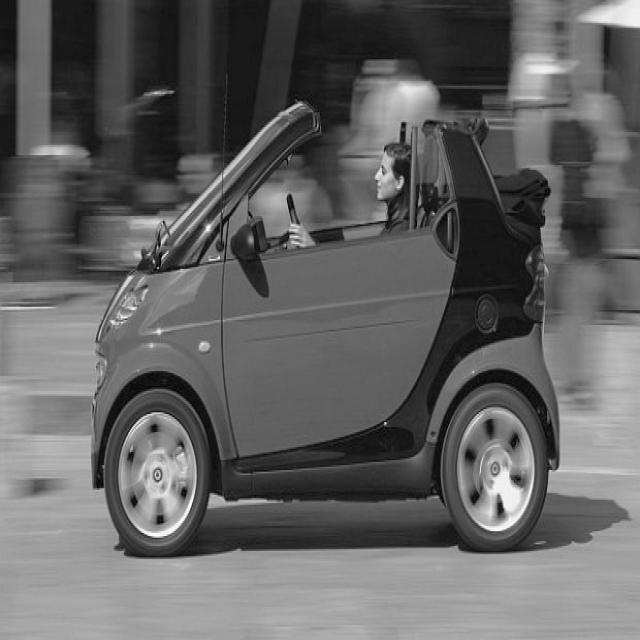car: (89, 95, 560, 558)
